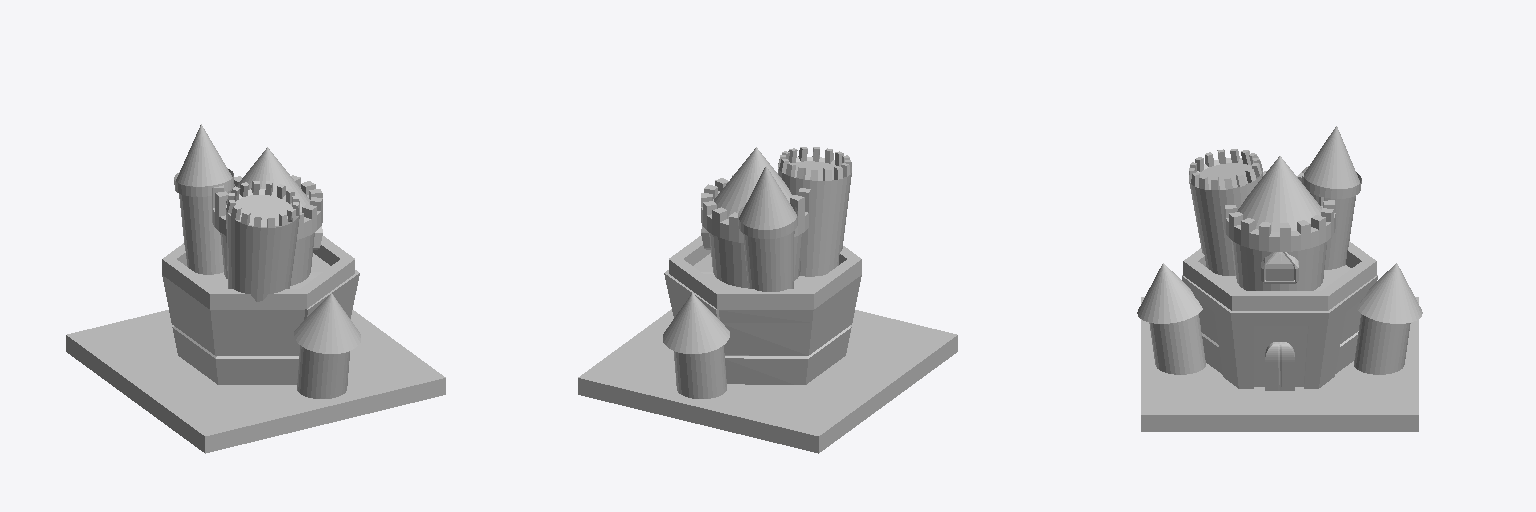
Rendered from entornoBowser.obj.
3 views of the same model, side by side, from view 1: azimuth 30°, elevation 25°; view 2: azimuth 150°, elevation 25°; view 3: azimuth 270°, elevation 25° (orthographic).
Visible parts, largest first — view 1: Cube, Cylinder, Cylinder.002, Cylinder.005, Cylinder.001, Cylinder.003; view 2: Cube, Cylinder, Cylinder.002, Cylinder.005, Cylinder.001, Cylinder.003; view 3: Cube, Cylinder.002, Cylinder.005, Cylinder, Cylinder.003, Cylinder.001, Cube.006, Cube.002.
Part boxes in pixels (x1,y1,x2,y2): Cube: (66, 310, 445, 453); Cylinder: (162, 236, 354, 384); Cylinder.002: (174, 169, 322, 301); Cylinder.005: (176, 124, 360, 353); Cylinder.001: (297, 345, 349, 398); Cylinder.003: (290, 253, 359, 319); Cube: (578, 309, 957, 453); Cylinder: (669, 236, 861, 384); Cylinder.002: (701, 147, 851, 291); Cylinder.005: (663, 147, 796, 353); Cylinder.001: (674, 345, 726, 398); Cylinder.003: (664, 253, 747, 319); Cube: (1141, 297, 1418, 431); Cylinder.002: (1189, 149, 1361, 290); Cylinder.005: (1137, 126, 1422, 323); Cylinder: (1183, 241, 1376, 386); Cylinder.003: (1182, 266, 1377, 388); Cylinder.001: (1149, 314, 1410, 374); Cube.006: (1268, 346, 1291, 390); Cube.002: (1265, 342, 1294, 390).
Size of the model in its own units: 11.41 by 10.62 by 11.7.